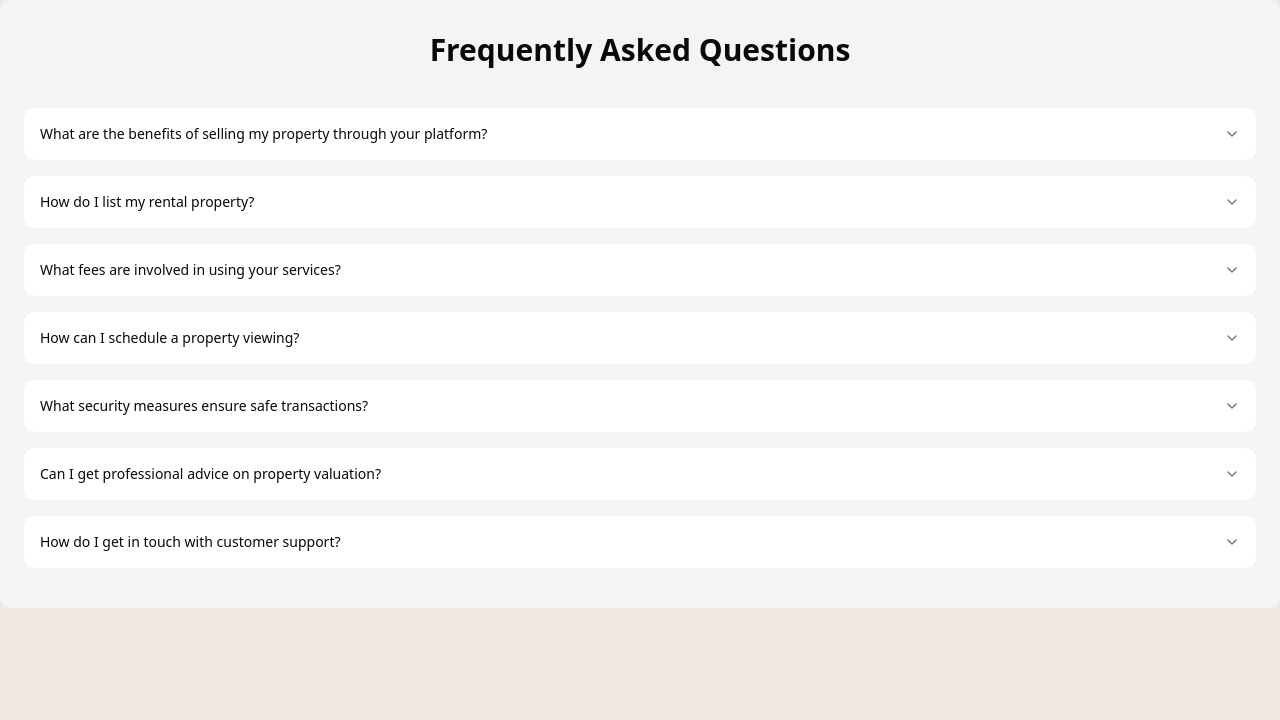
FAQPage › collapses an expanded accordion item when clicked again
The image size is (1280, 720).
Expand the accordion
Click the button "How do I list my rental property?".
click(147, 202)  # box [24,176,1256,228]
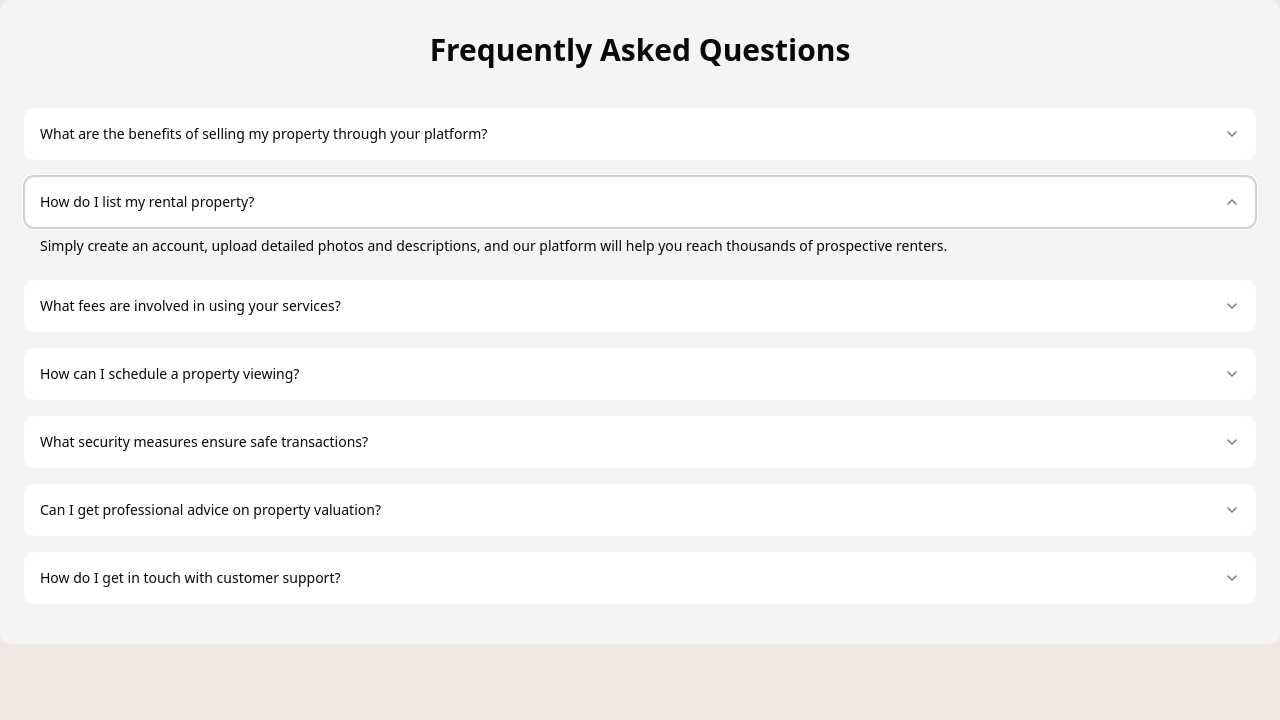
Click again to collapse
Click the button "How do I list my rental property?".
click(147, 202)  # box [24,176,1256,228]
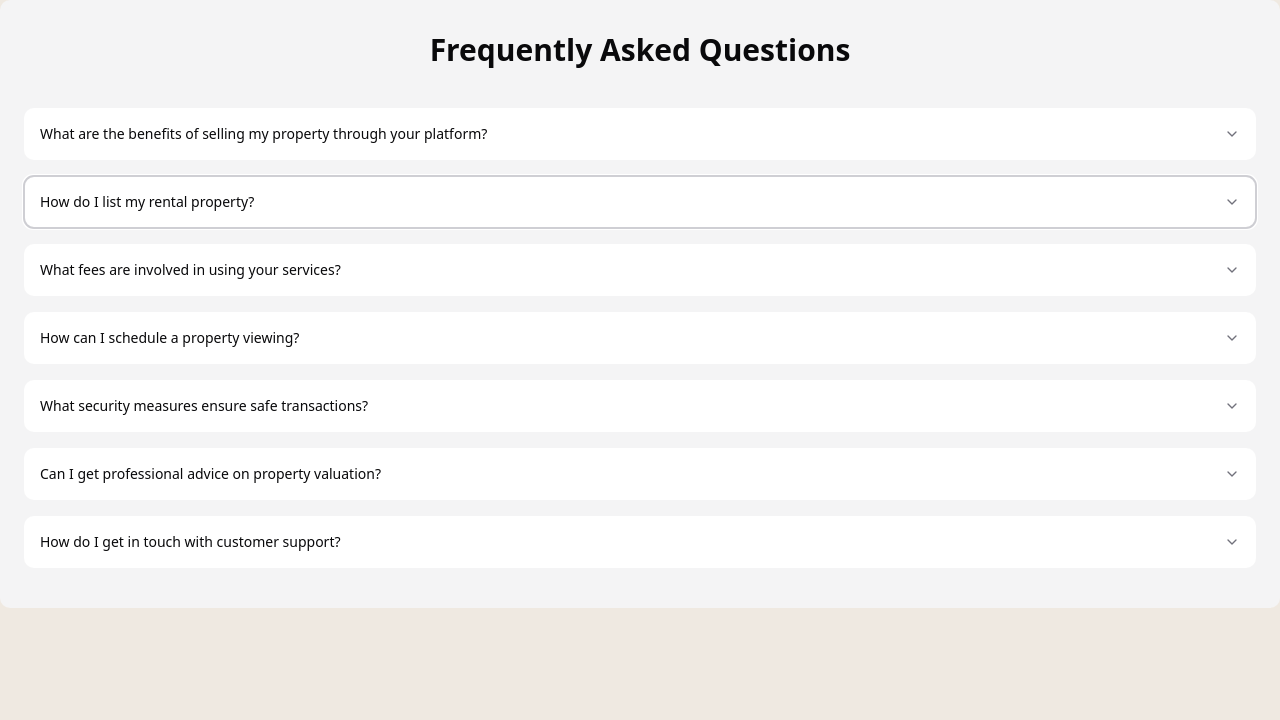
expect the button "How do I list my rental property?" is collapsed: met, box [24,176,1256,228]
